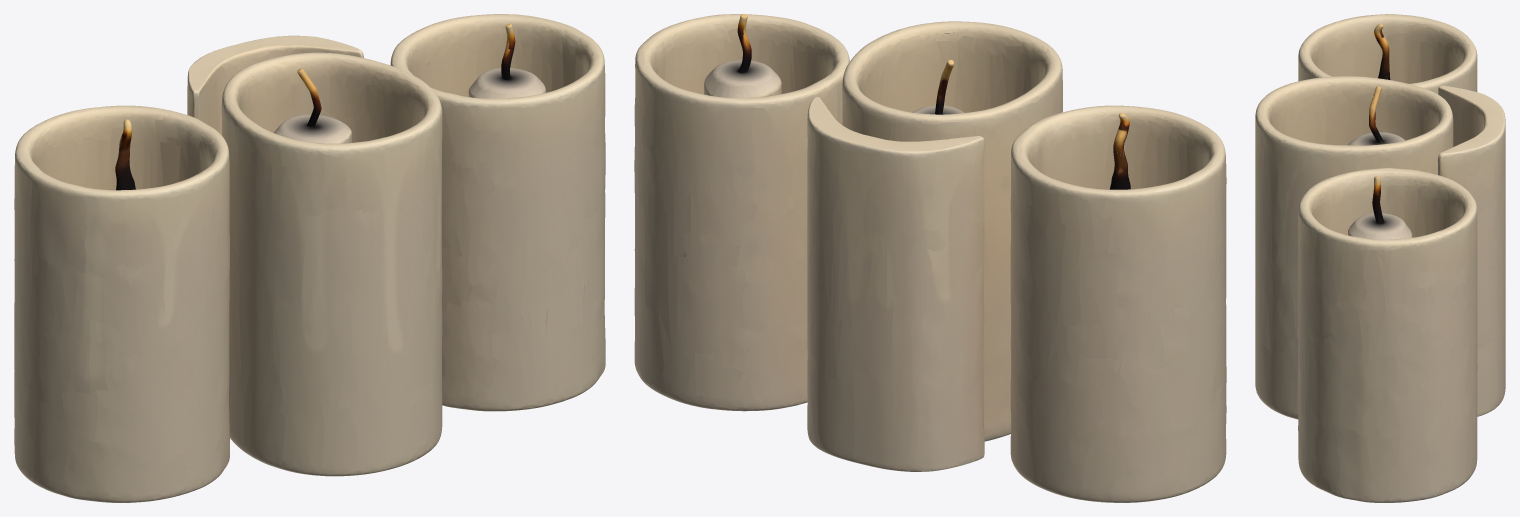
File: candles.glb
3 renders of one model, left to right at view 1: azimuth 30°, elevation 25°; view 2: azimuth 150°, elevation 25°; view 3: azimuth 270°, elevation 25°, orthographic. The views are drawn at different scales.
Bounding box in the file's own units: 1.9 × 1.14 × 0.8733.
1 material, 1 textured.
